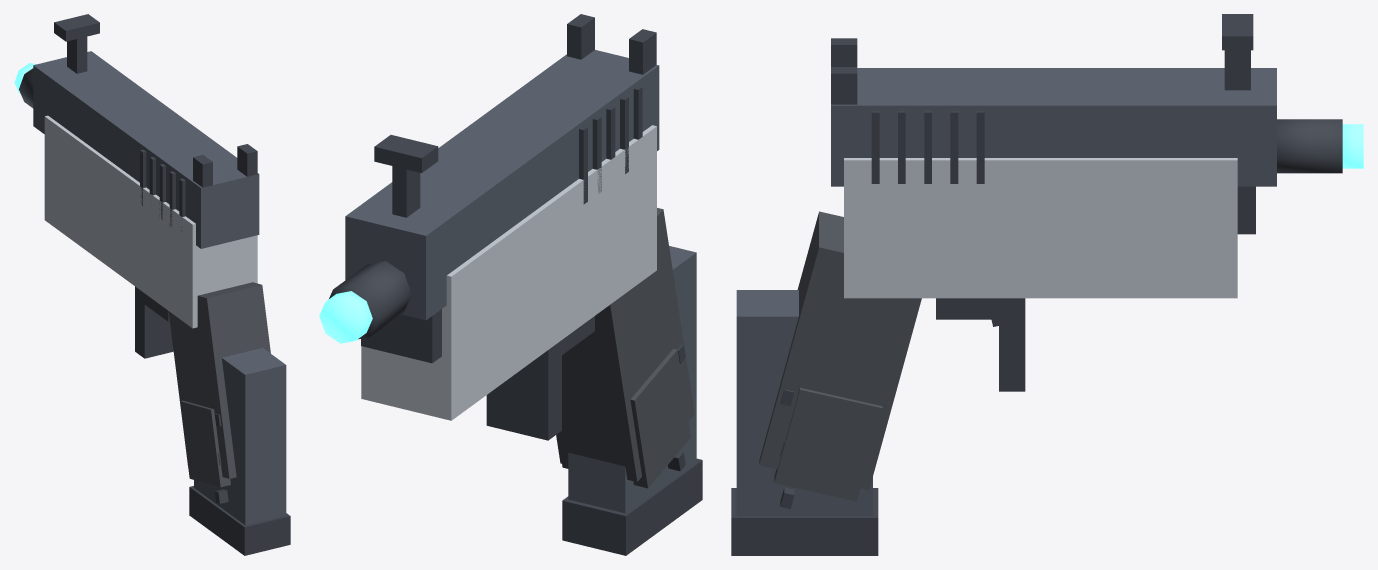
The model's file is wpn_energy_pistol_world.glb.
3 renders of one model, left to right at view 1: azimuth 30°, elevation 25°; view 2: azimuth 150°, elevation 25°; view 3: azimuth 270°, elevation 25°, orthographic. The views are drawn at different scales.
Visible parts, largest first — view 1: wpn_energy_pistol_world; view 2: wpn_energy_pistol_world; view 3: wpn_energy_pistol_world.
Boxes of the visible parts, x1,y1,x2,y2 form: wpn_energy_pistol_world: [14, 14, 290, 555]; wpn_energy_pistol_world: [319, 14, 702, 555]; wpn_energy_pistol_world: [731, 14, 1363, 555].
Size of the model in its own units: 0.038 by 0.217 by 0.241.
